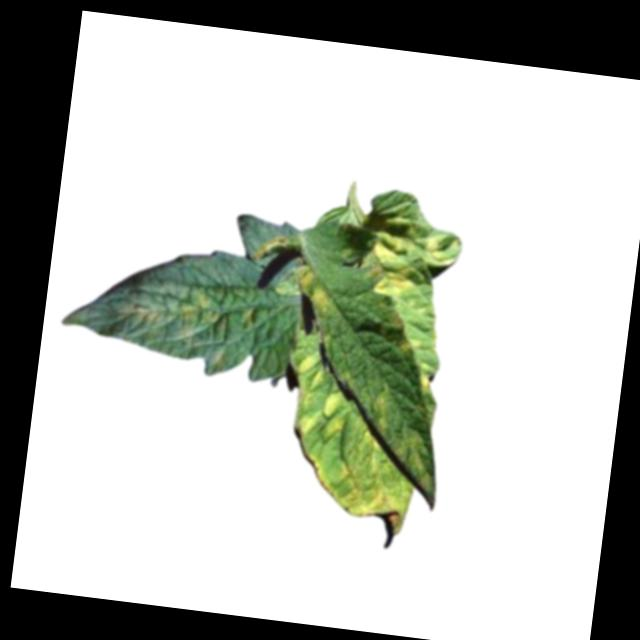Leaf_Mold: (278, 355, 450, 535), (356, 219, 461, 311), (115, 282, 258, 342), (285, 260, 337, 315)
